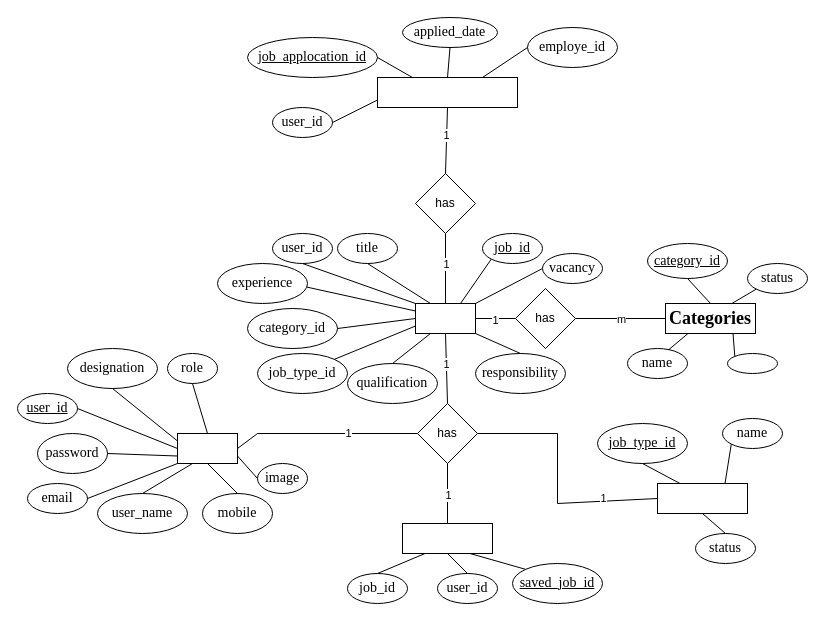
This 825x621 diagram has some shape labels left out. Here are the shapes that lost their labels. From the top down, the centre of each, then its label:
At point 447,92: "Job Applications".
At point 445,318: "Jobs".
At point 752,363: "slug".
At point 207,448: "Users".
At point 702,498: "Jobs Type".
At point 447,538: "Saved Jobs".
